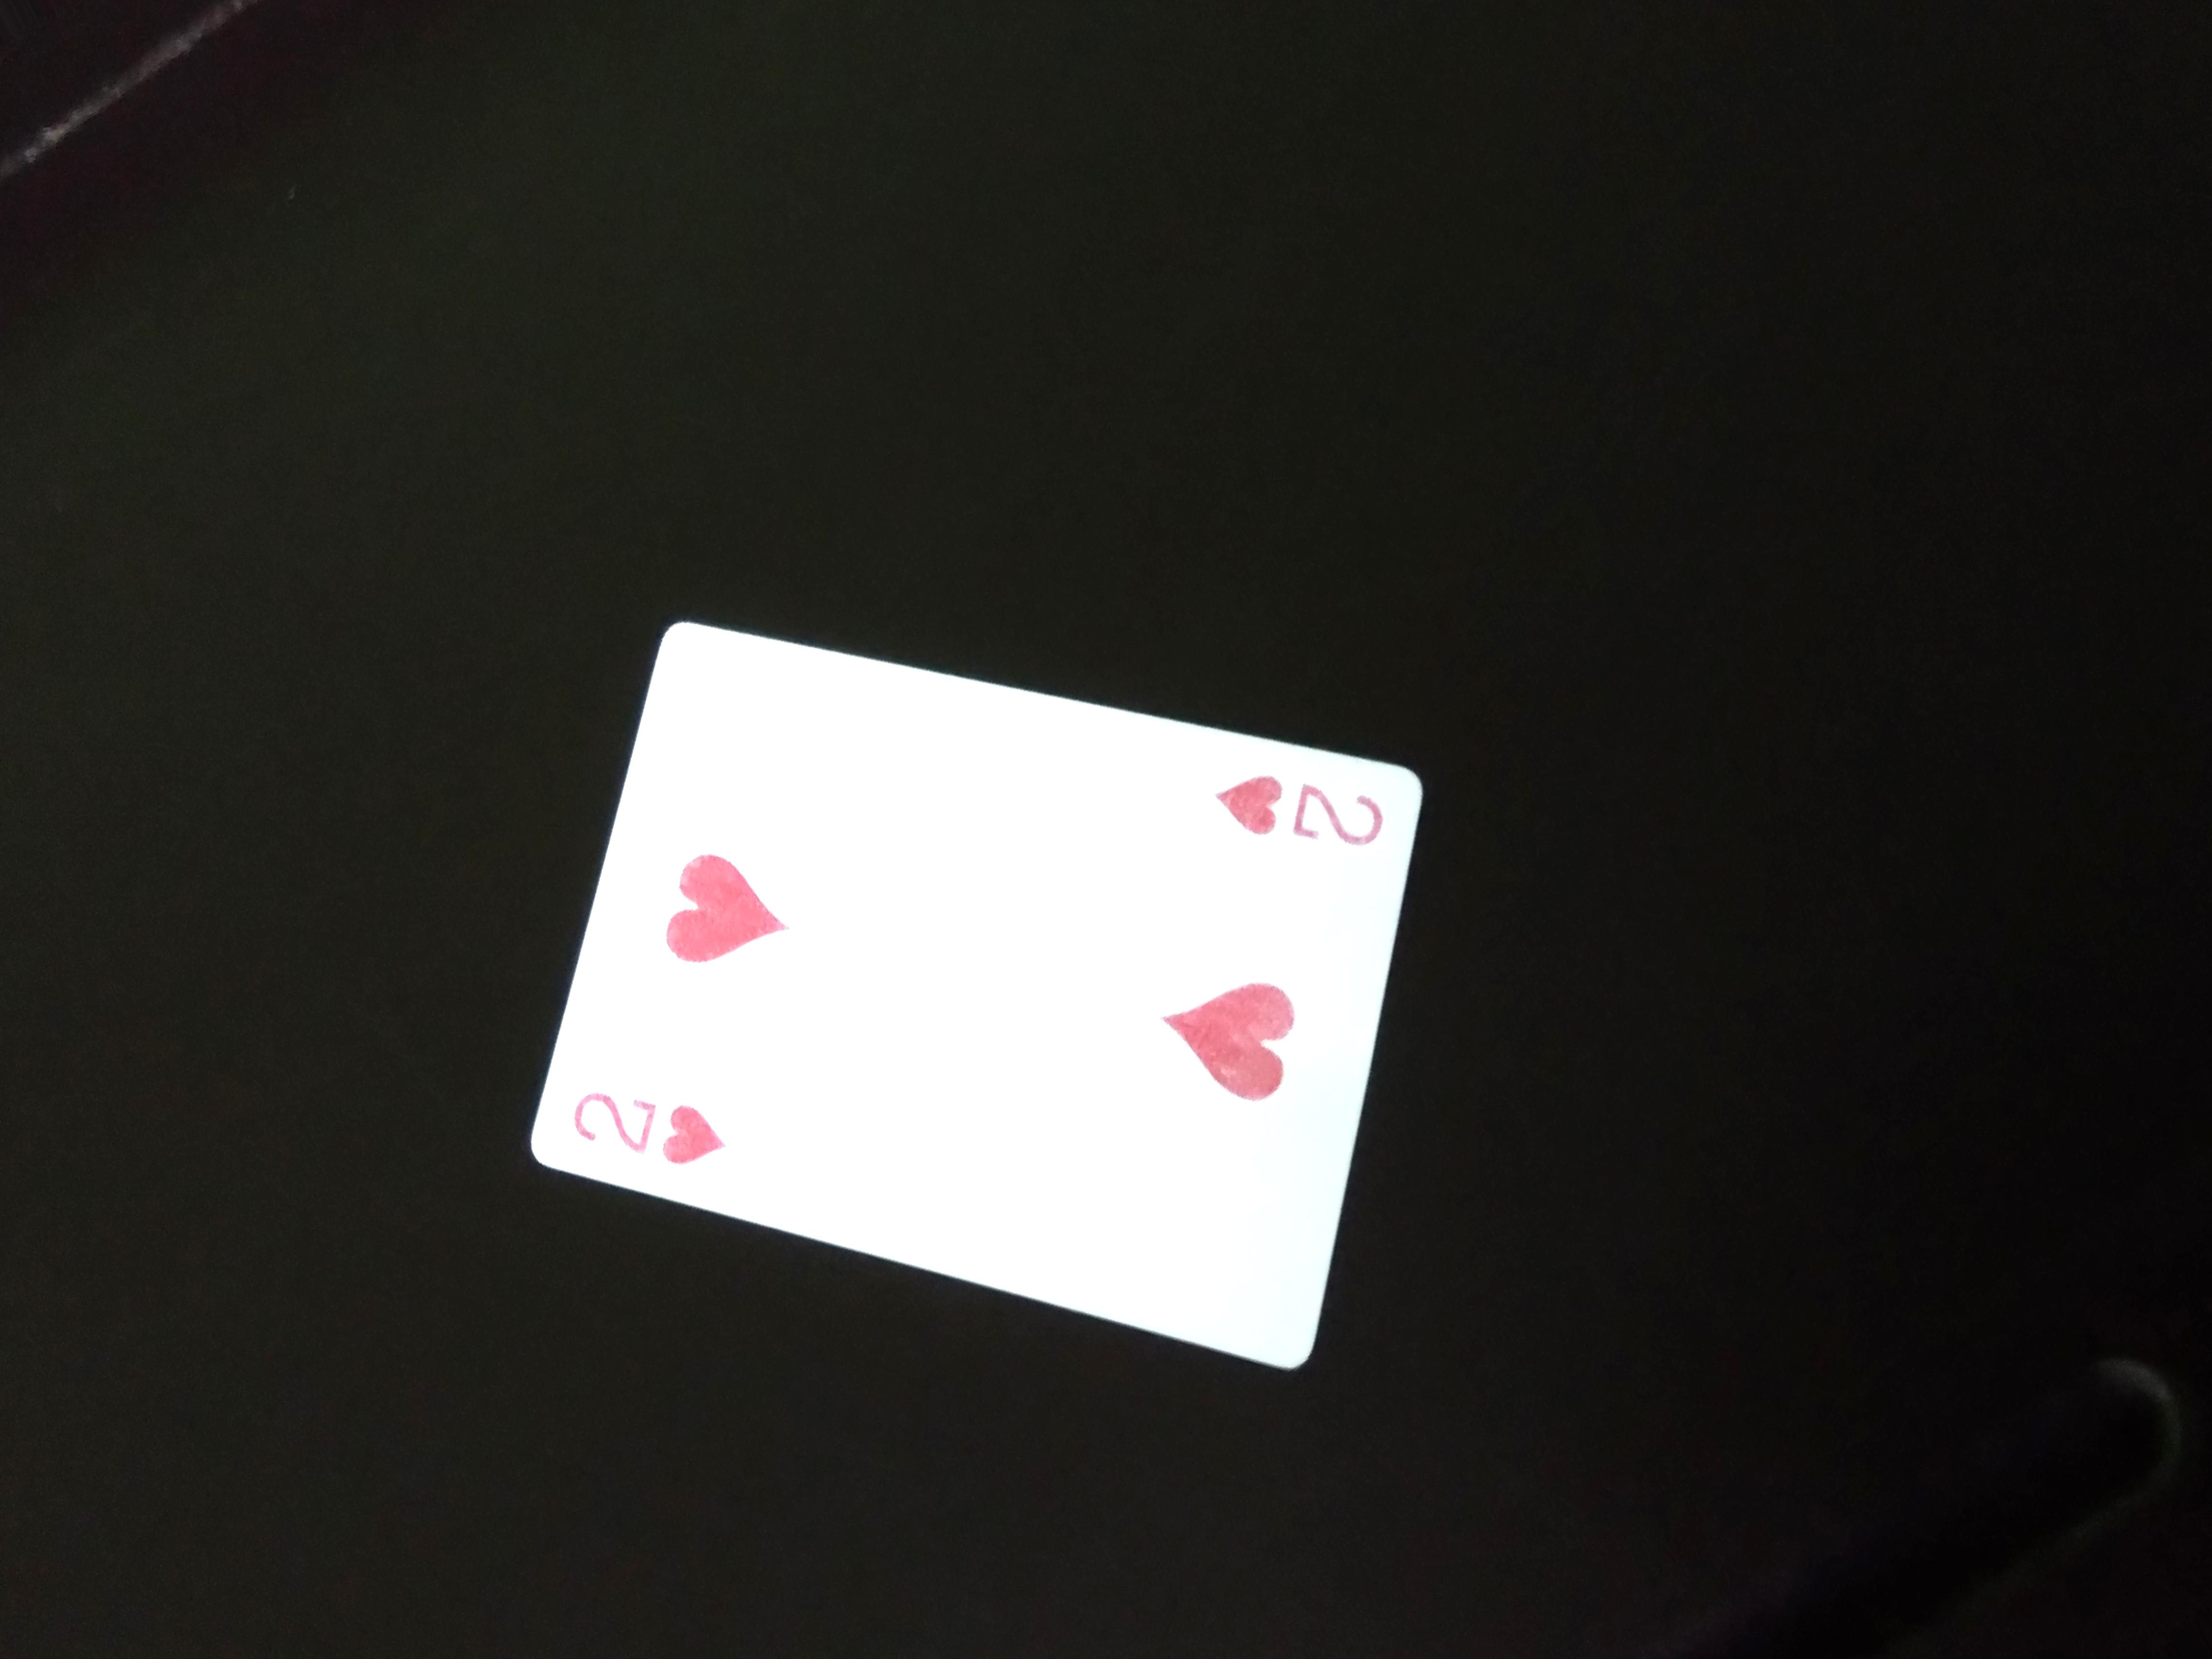2H: (1202, 746, 1400, 868)
